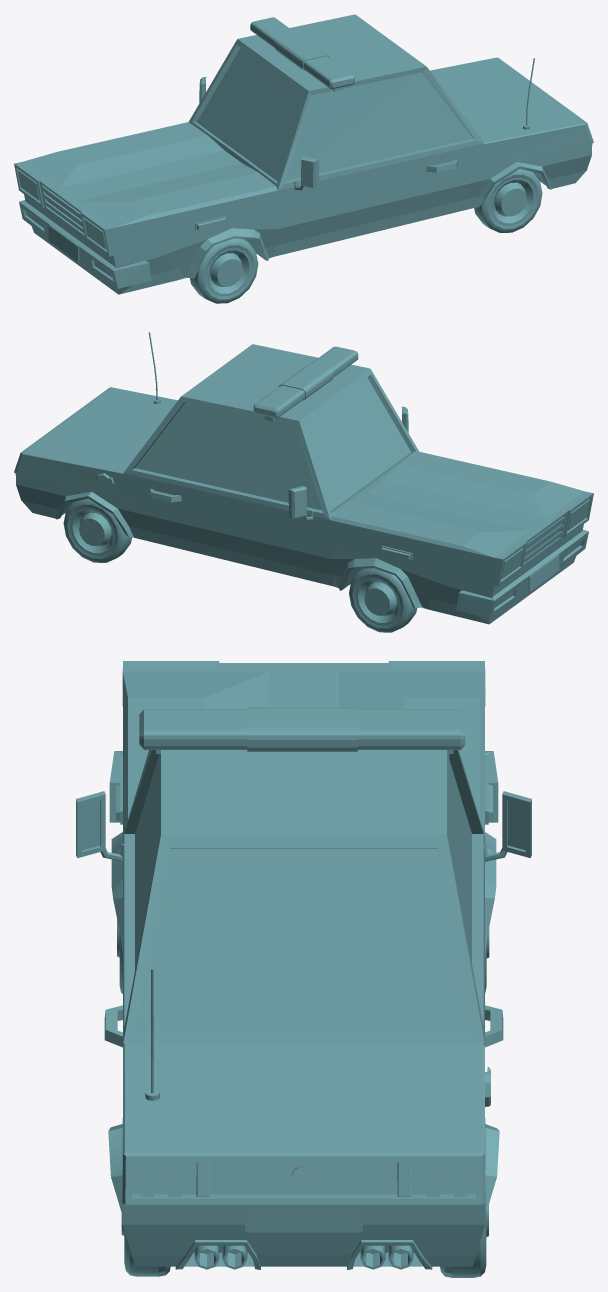
File: PoliceCar.FBX
3 views of the same model, one above another, from view 1: azimuth 30°, elevation 25°; view 2: azimuth 150°, elevation 25°; view 3: azimuth 270°, elevation 25° (orthographic). The views are drawn at different scales.
Parts seen in each view (by area): view 1: m_Car, m_Wheel_LF, m_Wheel_LB; view 2: m_Car, m_Wheel_RF, m_Wheel_RB; view 3: m_Car, m_Wheel_RB.
Part boxes in pixels (x1=…): m_Car: x1=14, y1=14, x2=593, y2=294; m_Wheel_LF: x1=190, y1=238, x2=258, y2=303; m_Wheel_LB: x1=474, y1=169, x2=542, y2=232; m_Car: x1=14, y1=332, x2=593, y2=624; m_Wheel_RF: x1=349, y1=568, x2=417, y2=632; m_Wheel_RB: x1=63, y1=499, x2=131, y2=562; m_Car: x1=76, y1=661, x2=531, y2=1269; m_Wheel_RB: x1=440, y1=1205, x2=488, y2=1277.
Size of the model in its own units: 299 by 114 by 120.
